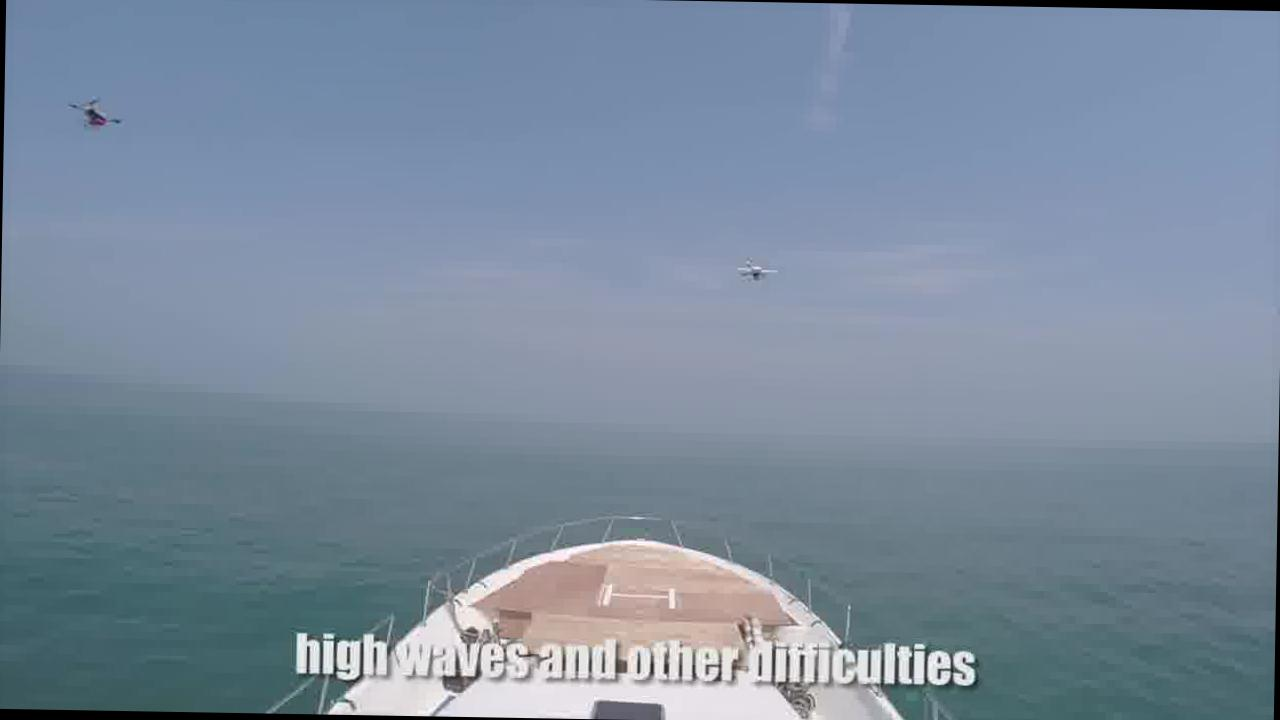drone: (62, 91, 122, 137), (731, 255, 783, 286)
